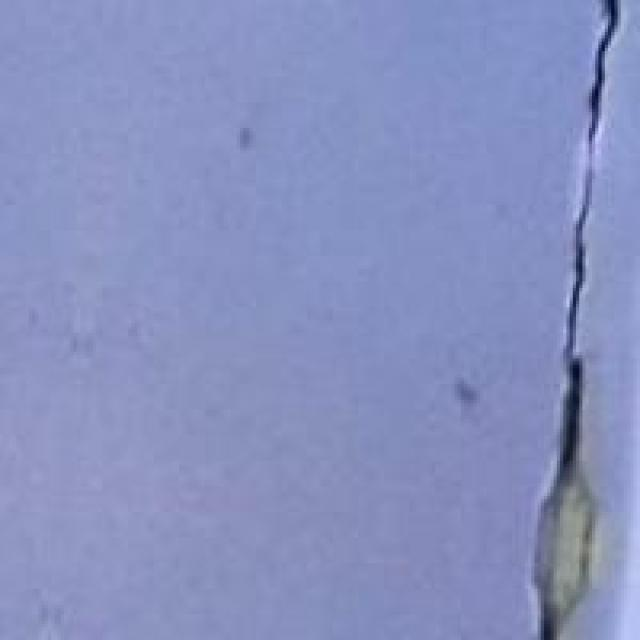crack: (496, 0, 637, 637)
